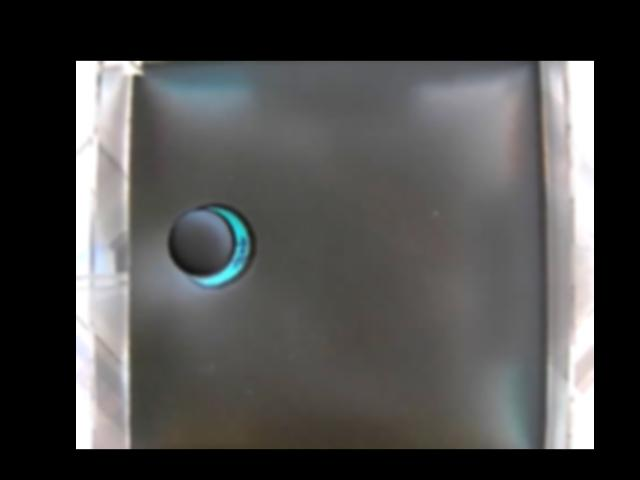Cup: (165, 199, 254, 290)
